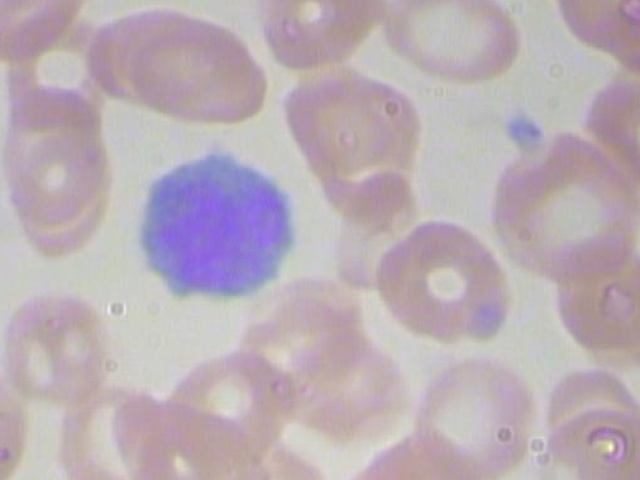Platelets: (494, 105, 553, 153)
RBC: (488, 129, 640, 290), (369, 214, 511, 348), (275, 62, 427, 187), (146, 340, 290, 468), (399, 352, 534, 480), (128, 12, 265, 131), (377, 0, 533, 93), (0, 284, 121, 399), (93, 10, 222, 114), (250, 0, 386, 72), (0, 0, 94, 65), (549, 0, 640, 65), (0, 359, 35, 480)
WBC: (128, 136, 314, 308)
